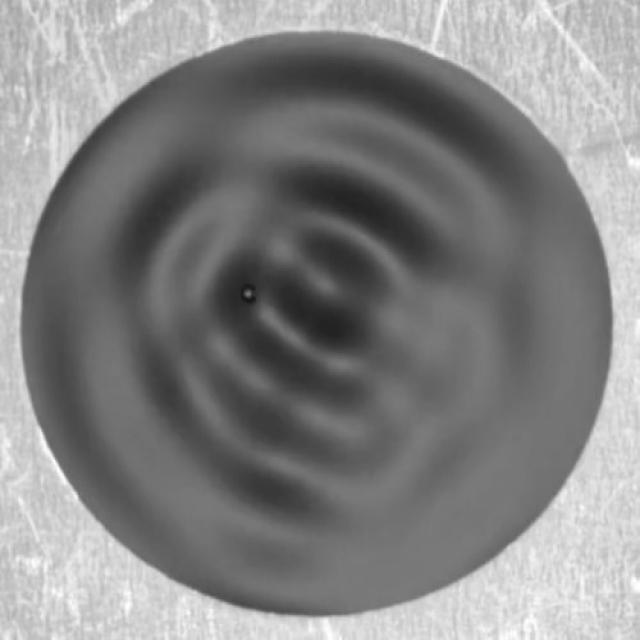droplet: (240, 282, 259, 305)
